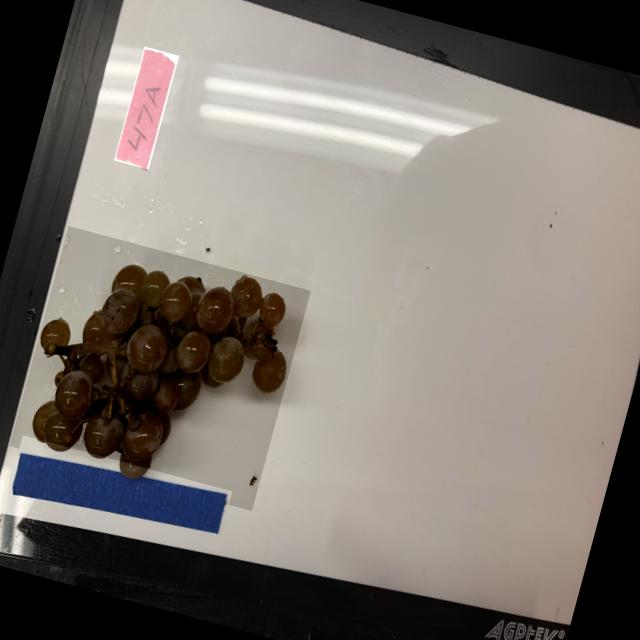grape_cluster: (9, 225, 310, 510)
index: (114, 45, 180, 168)
measure_label: (7, 433, 232, 548)
